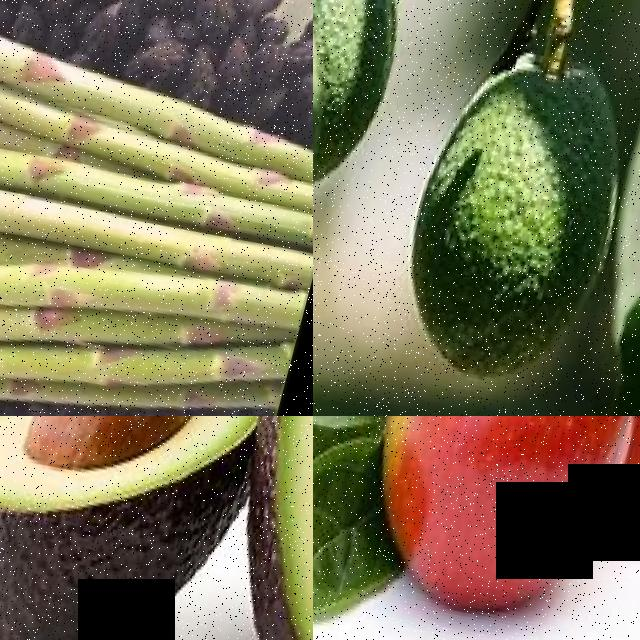apple: (340, 416, 640, 640)
asparagus: (0, 110, 313, 335), (0, 18, 313, 230), (0, 174, 305, 391), (0, 89, 313, 285), (0, 0, 313, 171), (0, 228, 218, 405), (0, 286, 195, 416)
avocado: (372, 0, 640, 416), (0, 416, 299, 640), (158, 416, 313, 640), (313, 0, 444, 206)
